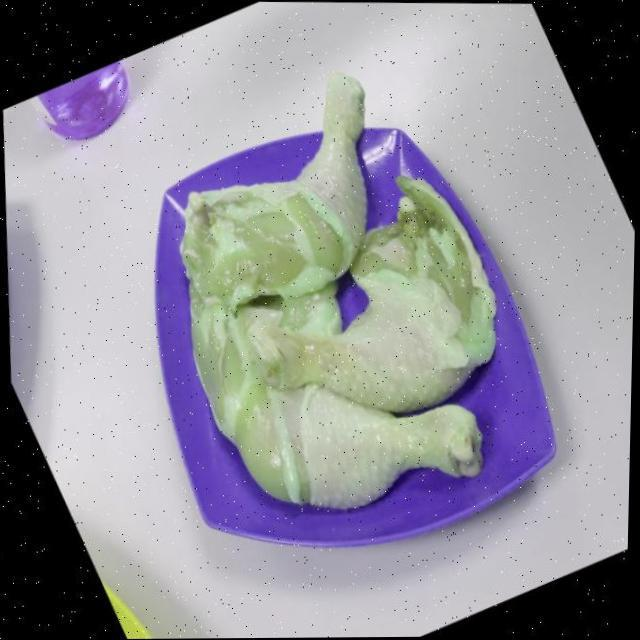quater: (195, 308, 490, 512), (261, 180, 513, 394), (150, 76, 364, 284)
